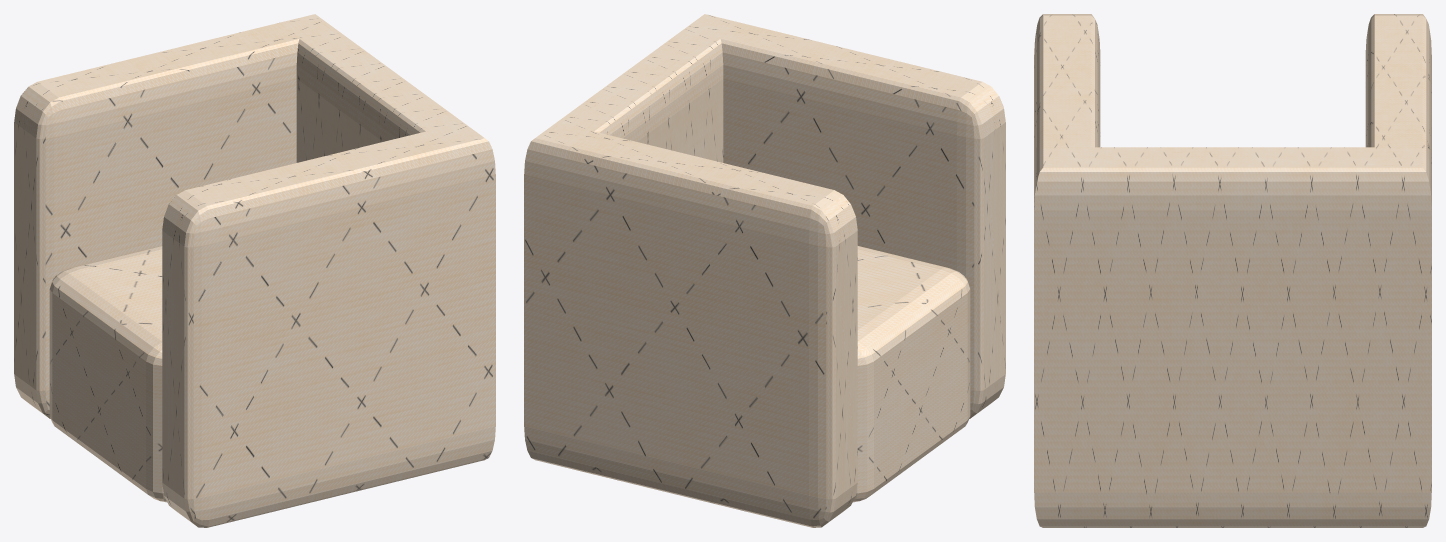
The model's file is Chair.glb.
3 views of the same model, side by side, from view 1: azimuth 30°, elevation 25°; view 2: azimuth 150°, elevation 25°; view 3: azimuth 270°, elevation 25° (orthographic). The views are drawn at different scales.
Visible parts, largest first — view 1: Cube.001, Cube; view 2: Cube.001, Cube; view 3: Cube.001.
Part boxes in pixels (bbox=[...]): Cube.001: bbox=[14, 14, 495, 527]; Cube: bbox=[49, 246, 167, 502]; Cube.001: bbox=[524, 14, 1005, 527]; Cube: bbox=[852, 246, 970, 502]; Cube.001: bbox=[1034, 14, 1431, 527].
Size of the model in its own units: 3 by 3 by 3.
Materials: 1 (1 with a texture image).
